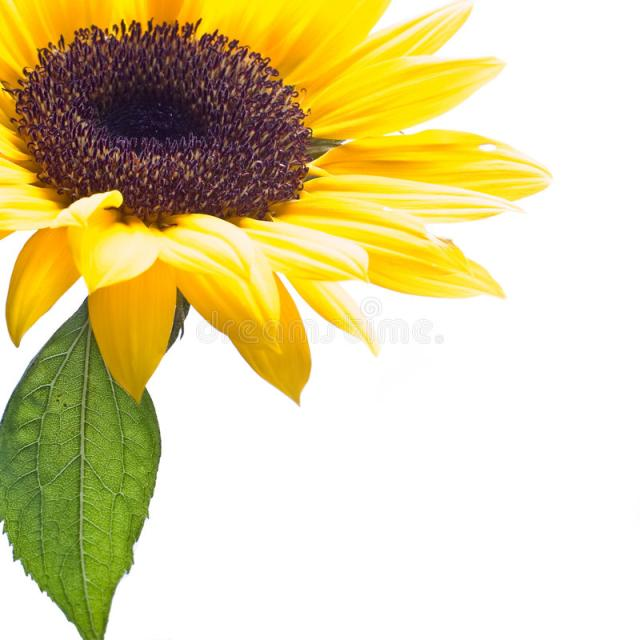sunflower: (0, 0, 582, 410)
